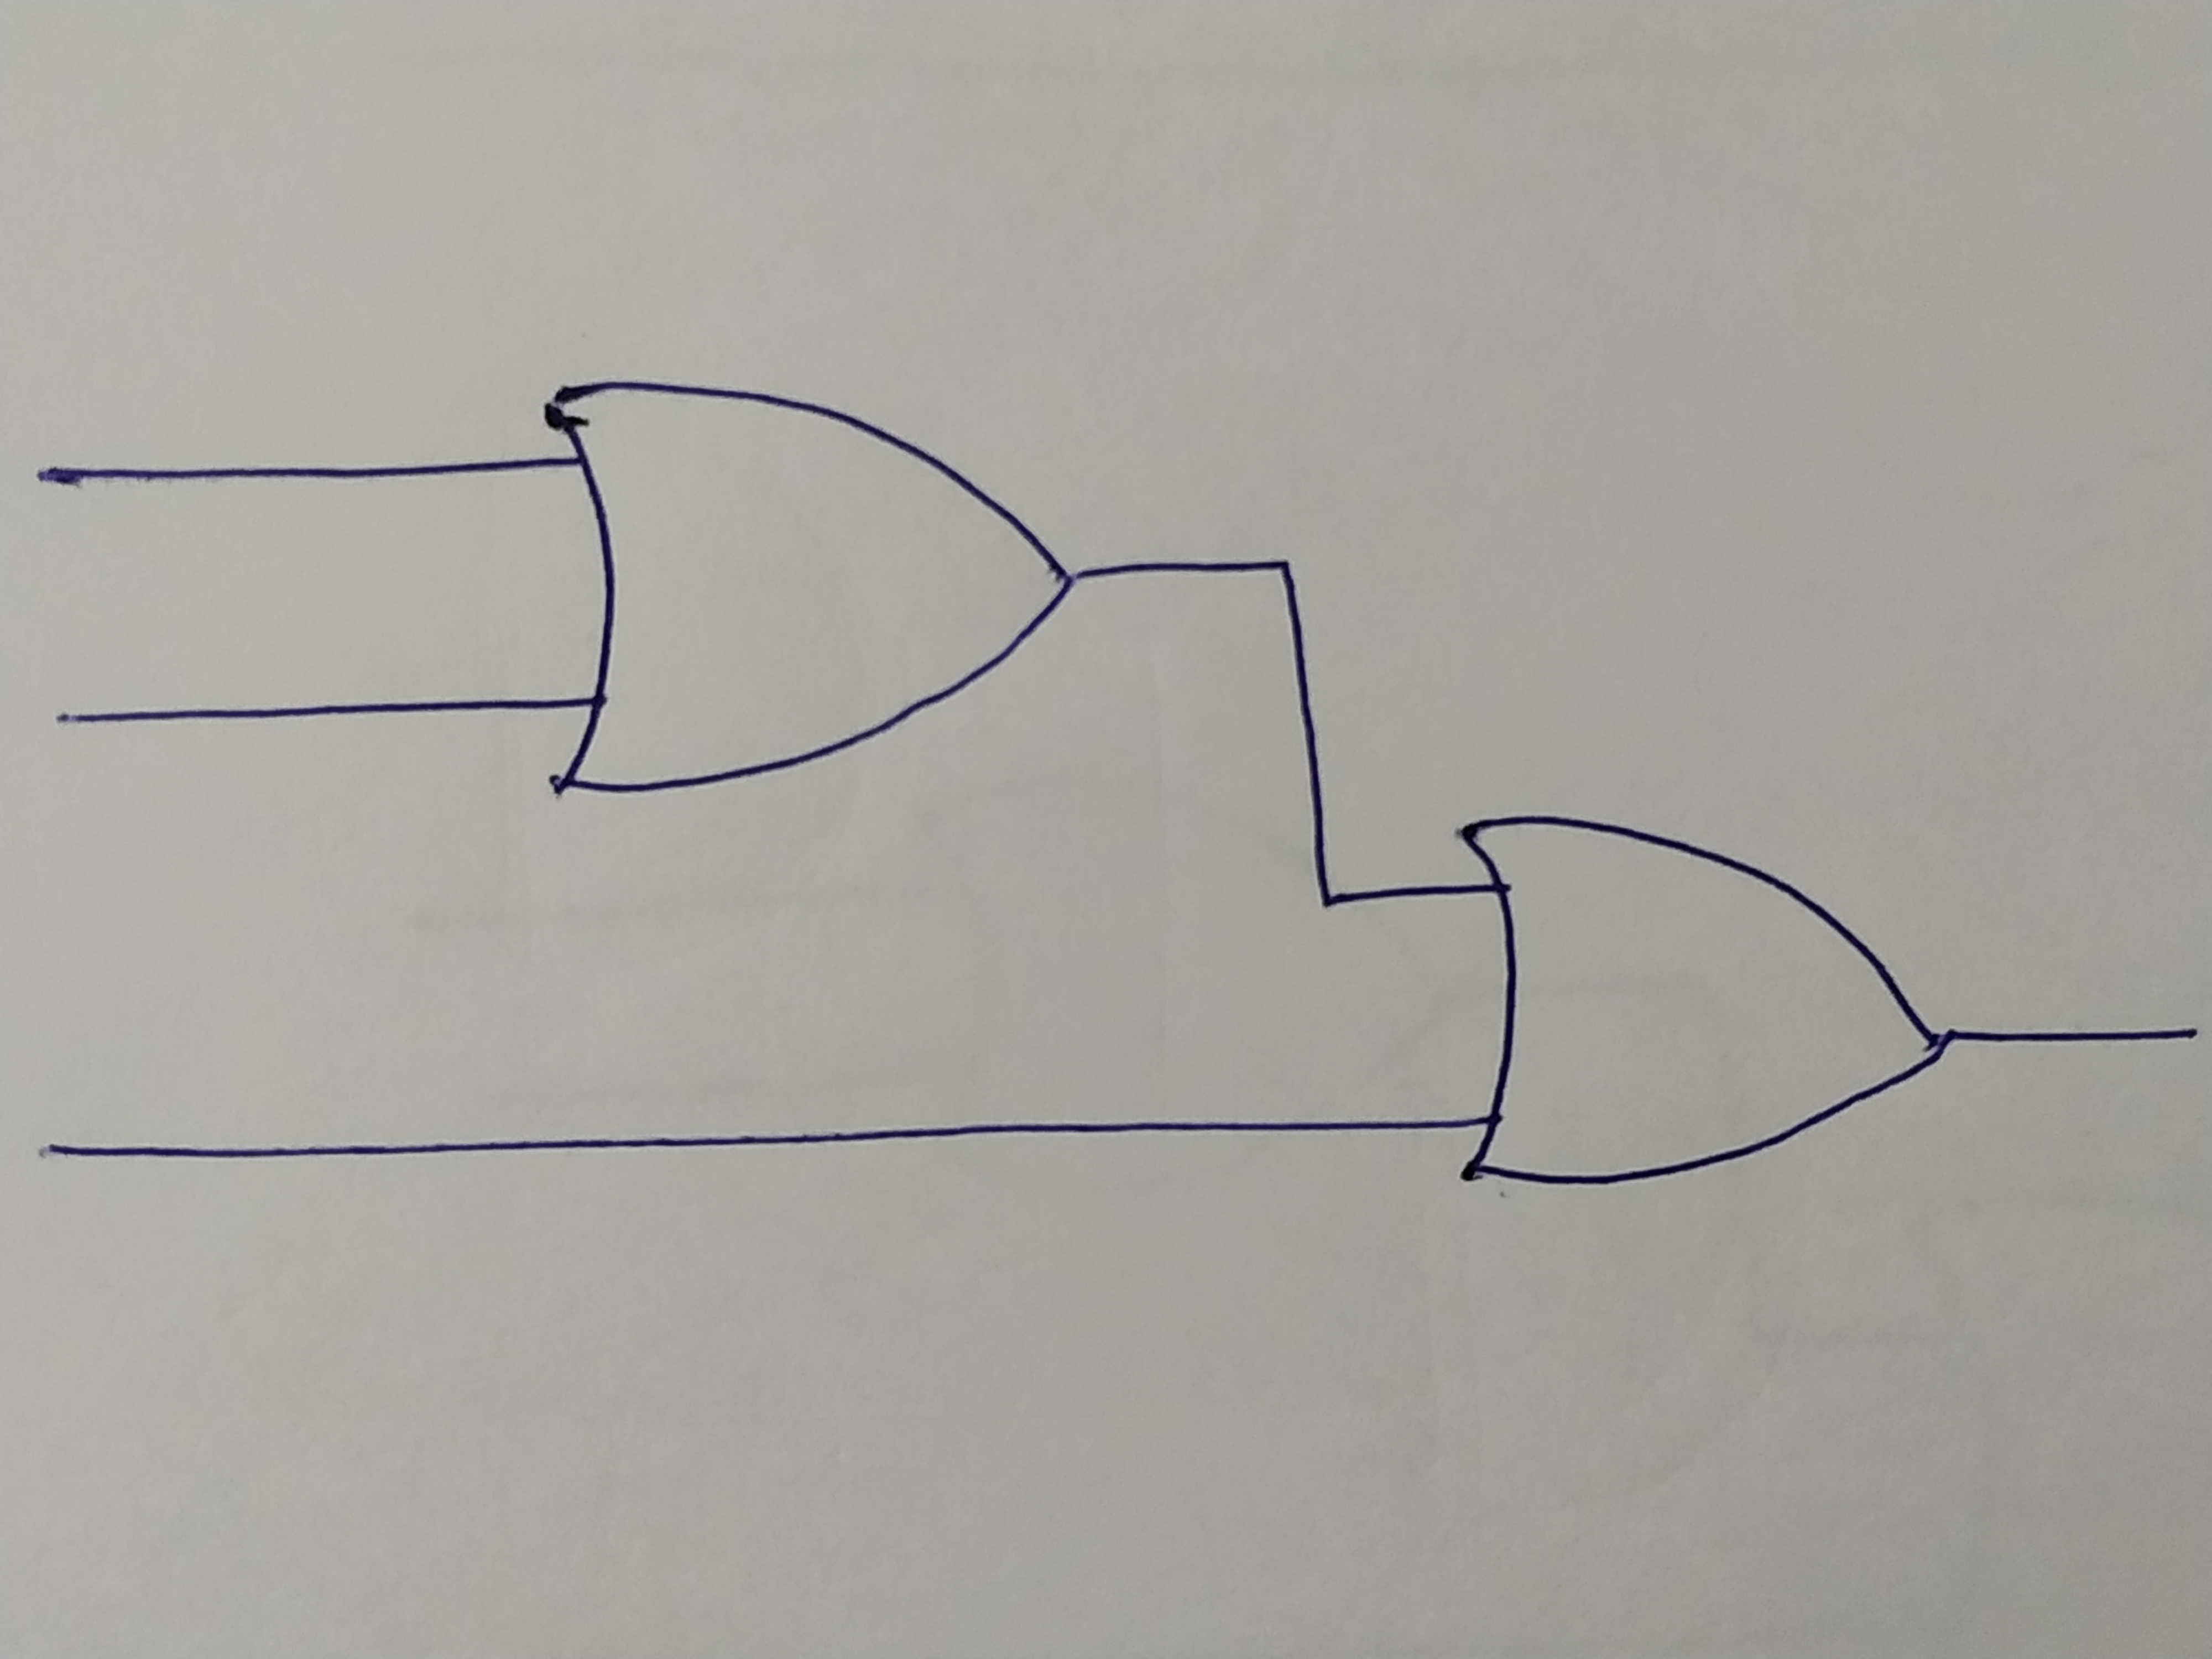or: (543, 389, 1066, 791), (1461, 819, 1946, 1199)
